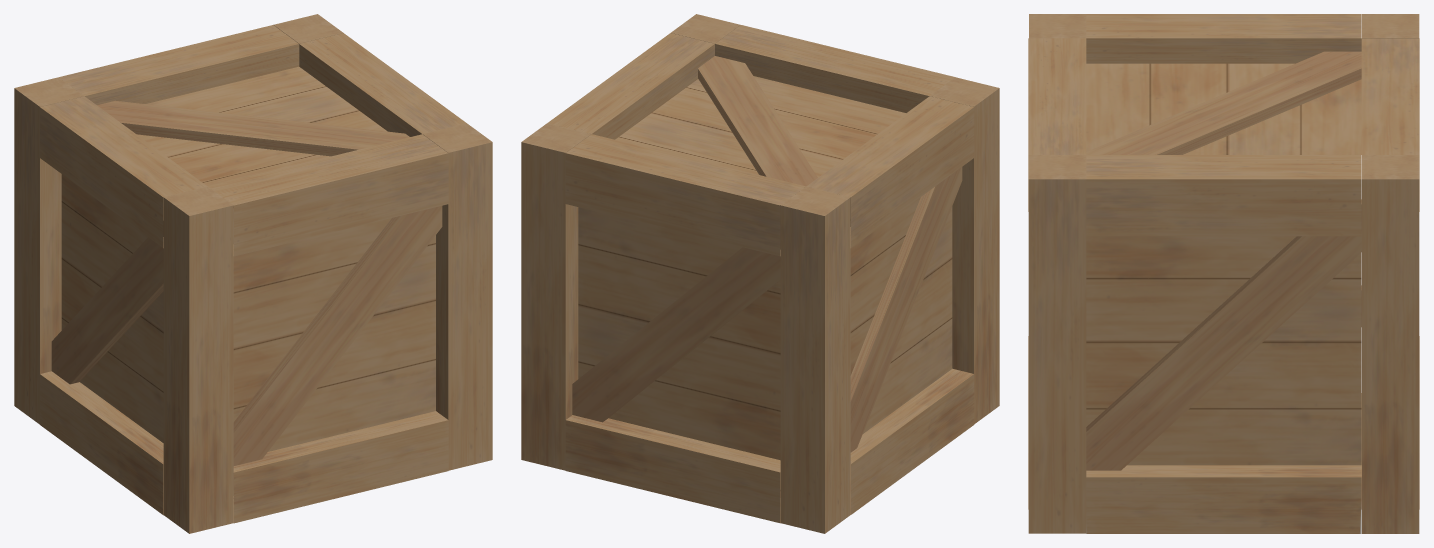
File: md_woodenBox2.fbx
3 views of the same model, side by side, from view 1: azimuth 30°, elevation 25°; view 2: azimuth 150°, elevation 25°; view 3: azimuth 270°, elevation 25° (orthographic). The views are drawn at different scales.
Visible parts, largest first — view 1: _MT_0010, _MT_004, _MT_003, _MT_008, _MT_001, _MT_009, _MT_007, _MT_002; view 2: _MT_0010, _MT_001, _MT_002, _MT_004, _MT_005, _MT_007, _MT_009, _MT_003; view 3: _MT_0010, _MT_003, _MT_002, _MT_006, _MT_009, _MT_004, _MT_001.
Part boxes in pixels (box(x1,y1,x2,y2)): _MT_0010: box(40, 25, 466, 523); _MT_004: box(163, 186, 233, 533); _MT_003: box(423, 123, 492, 470); _MT_008: box(233, 206, 442, 495); _MT_001: box(14, 77, 83, 424); _MT_009: box(97, 100, 409, 156); _MT_007: box(51, 221, 163, 384); _MT_002: box(273, 14, 343, 43); _MT_0010: box(547, 25, 974, 523); _MT_001: box(780, 186, 850, 533); _MT_002: box(521, 123, 591, 470); _MT_004: box(930, 77, 999, 423); _MT_005: box(572, 217, 780, 422); _MT_007: box(850, 167, 962, 452); _MT_009: box(698, 56, 817, 207); _MT_003: box(671, 14, 740, 43); _MT_0010: box(1028, 14, 1419, 533); _MT_003: box(1028, 155, 1086, 533); _MT_002: box(1362, 155, 1419, 533); _MT_006: box(1086, 199, 1361, 470); _MT_009: box(1086, 51, 1361, 154); _MT_004: box(1029, 14, 1086, 38); _MT_001: box(1362, 14, 1419, 38).
Size of the model in its own units: 70 by 70.02 by 70.
